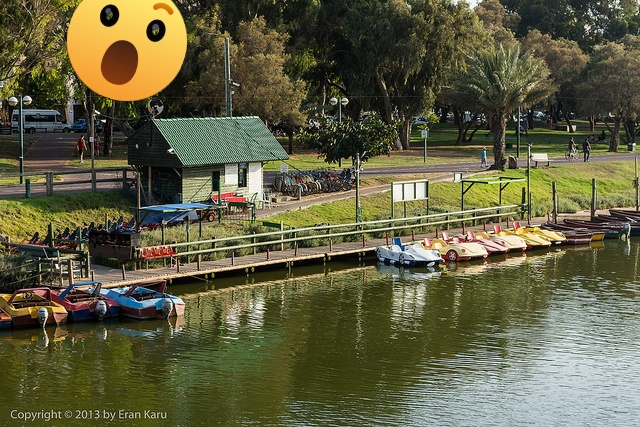wow: (67, 0, 187, 101)
